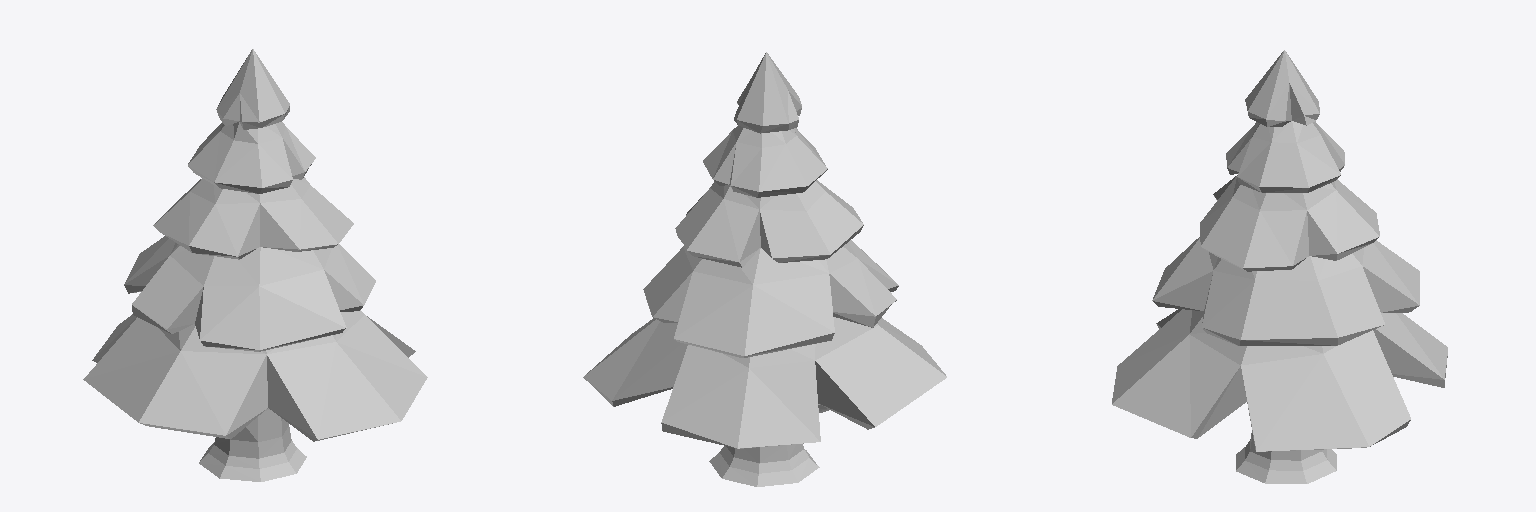
File: winter-tree5.obj
3 renders of one model, left to right at view 1: azimuth 30°, elevation 25°; view 2: azimuth 150°, elevation 25°; view 3: azimuth 270°, elevation 25°, orthographic.
Visible parts, largest first — view 1: Cylinder.010_Cylinder.007; view 2: Cylinder.010_Cylinder.007; view 3: Cylinder.010_Cylinder.007.
Part boxes in pixels (x1,y1,x2,y2): Cylinder.010_Cylinder.007: (83, 49, 427, 481); Cylinder.010_Cylinder.007: (583, 52, 946, 486); Cylinder.010_Cylinder.007: (1112, 50, 1447, 483).
Bounding box in the file's own units: 4.25 × 5.64 × 4.18.